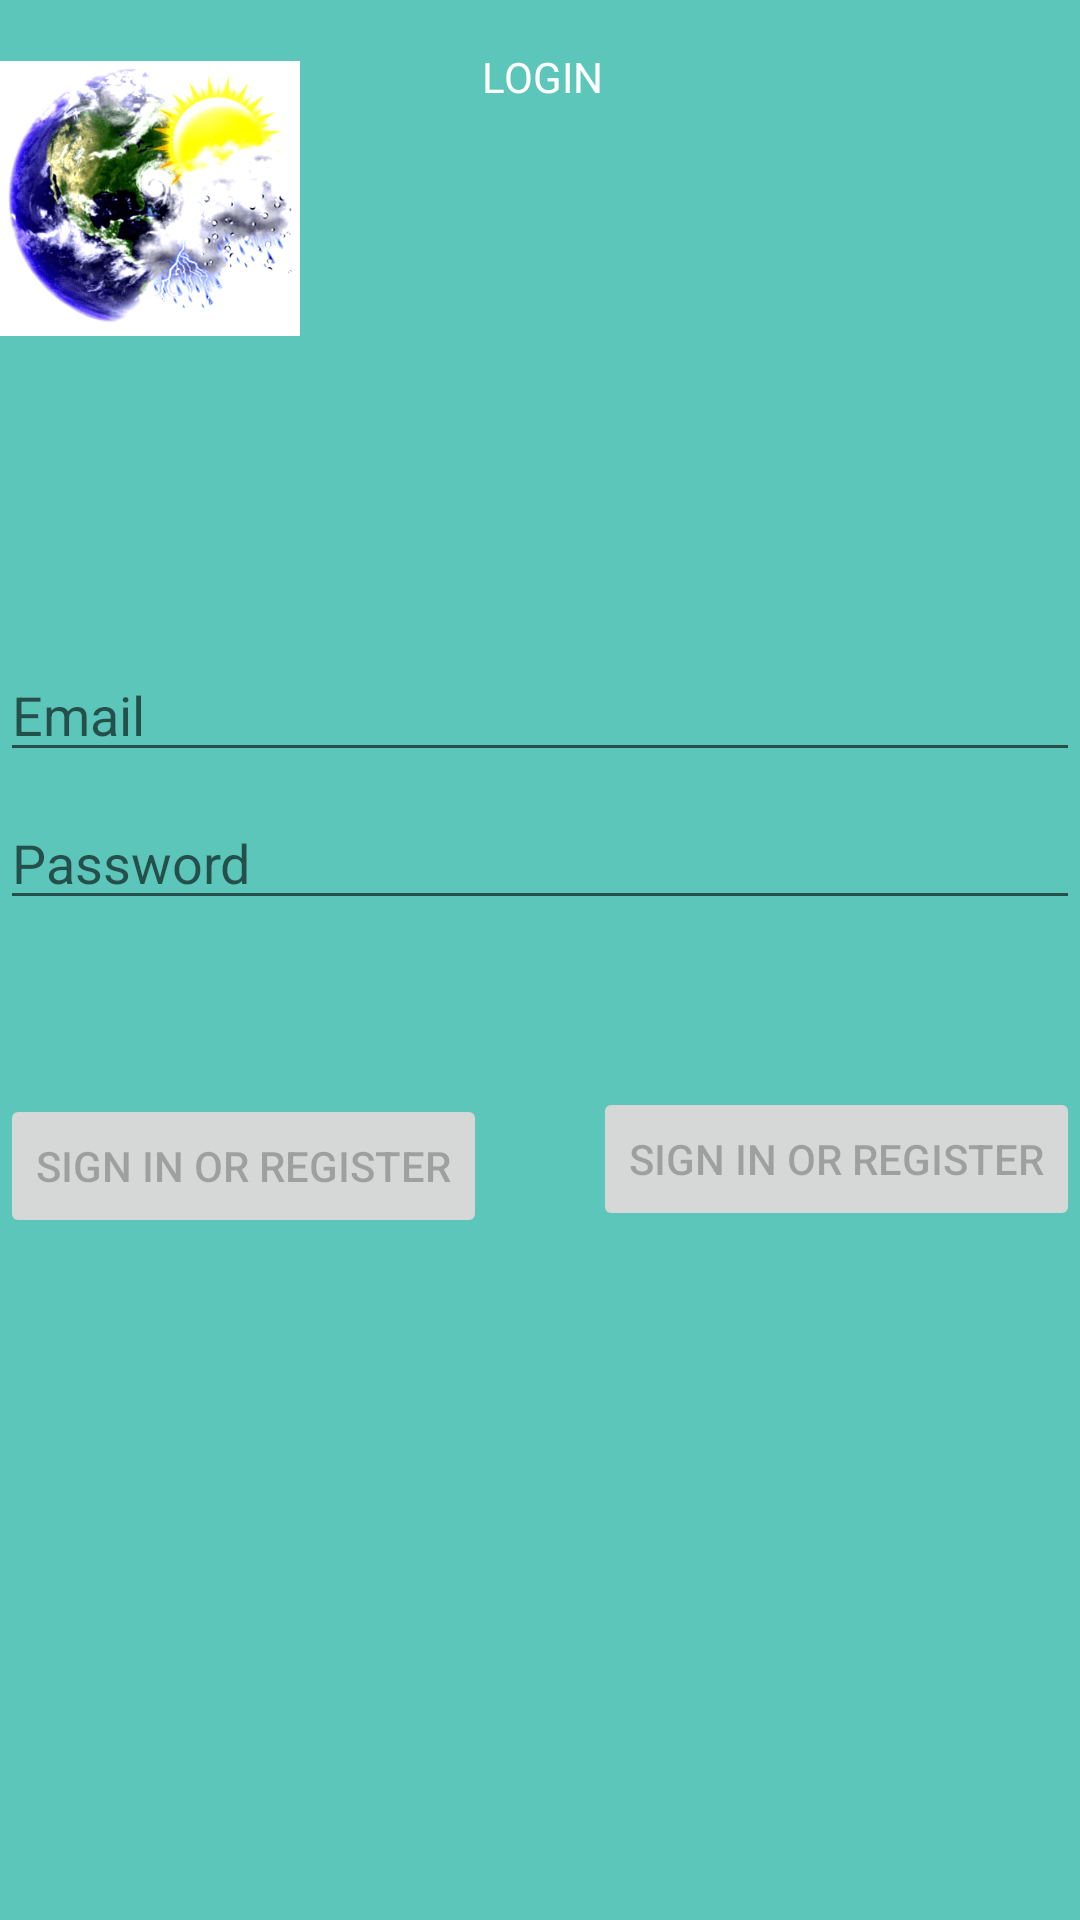

Icon click points for this 1080w x 1920h phone screenshot, format point (x, y):
clima: point (150, 198)
